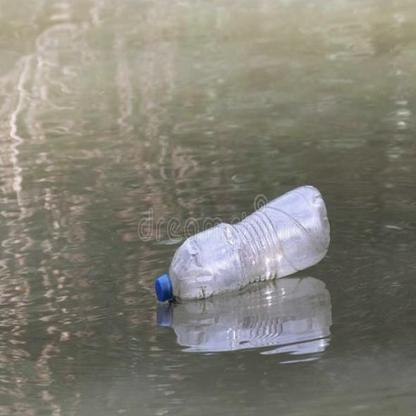plastic bottle: (155, 185, 329, 299)
